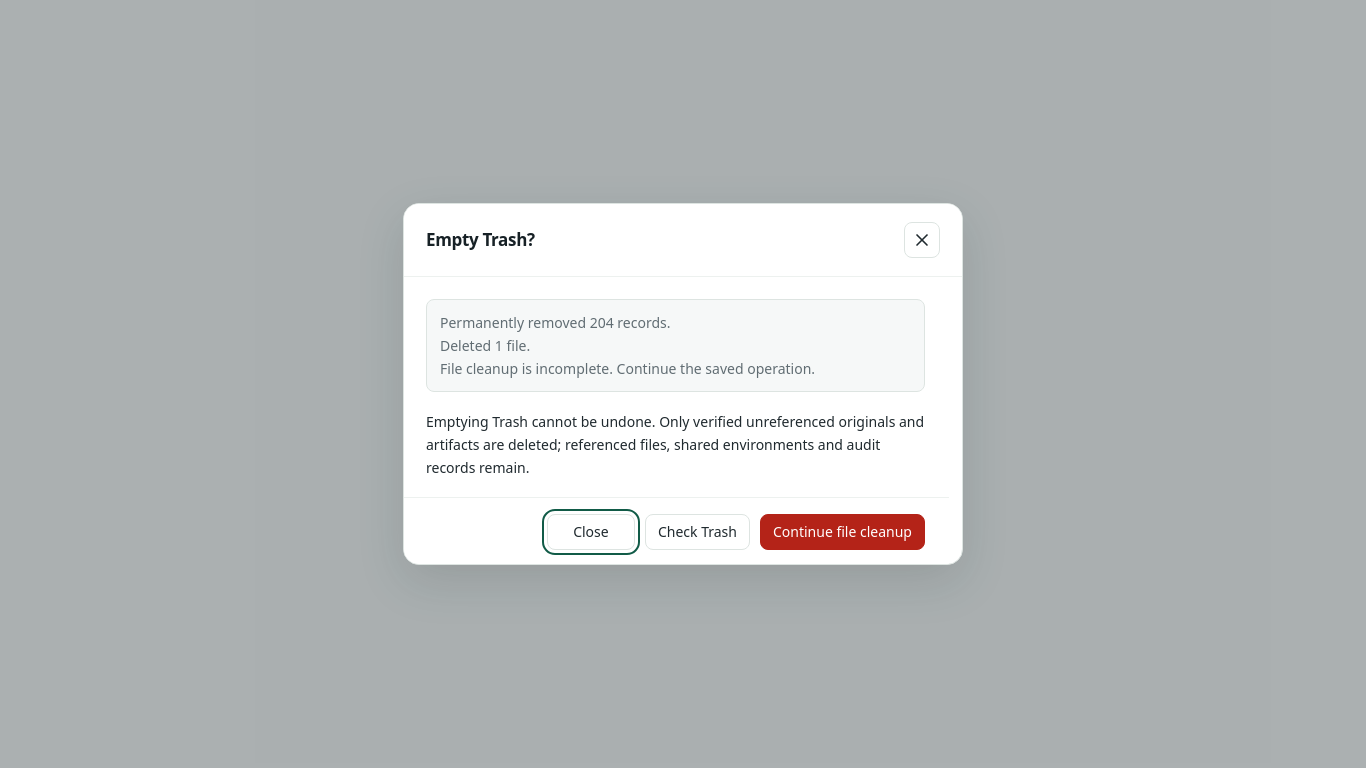
Scenario: shows incomplete file cleanup honestly and resumes the exact frozen request only on a click
The image size is (1366, 768).
expect the text "File cleanup is incomplete. Continue the saved operation." is shown: met, box [440,359,815,378]
Double-click the button "Continue file cleanup".
double_click(842, 532)  # box [760,514,925,550]
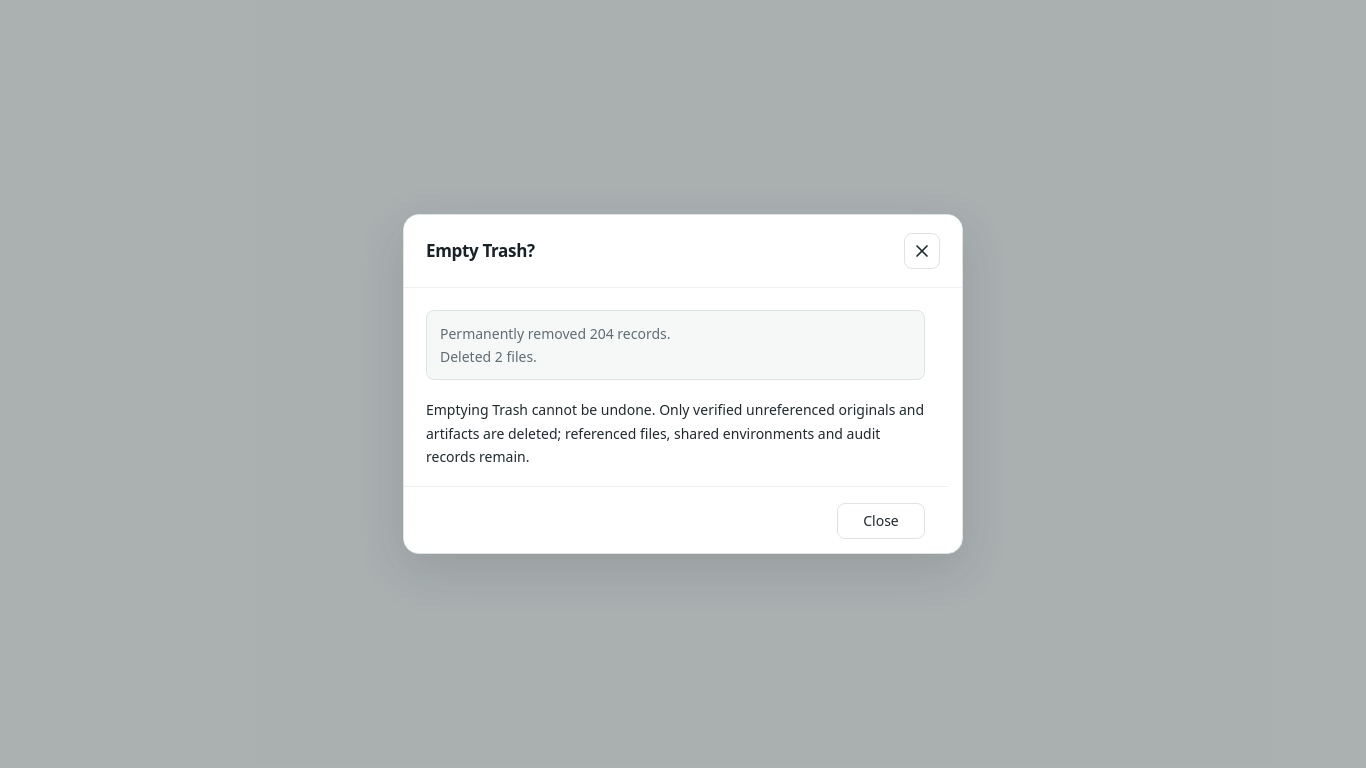
expect the text "Deleted 2 files." is shown: met, box [440,347,537,366]
